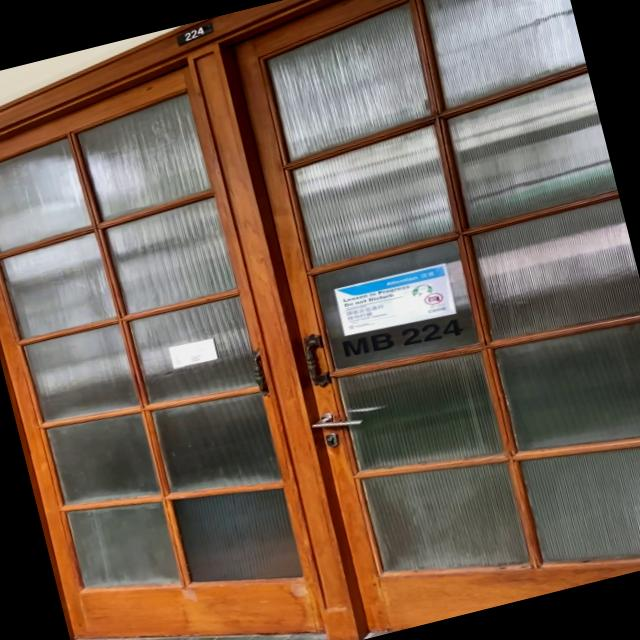room224: (175, 22, 216, 47)
room224Window: (336, 308, 468, 366)
